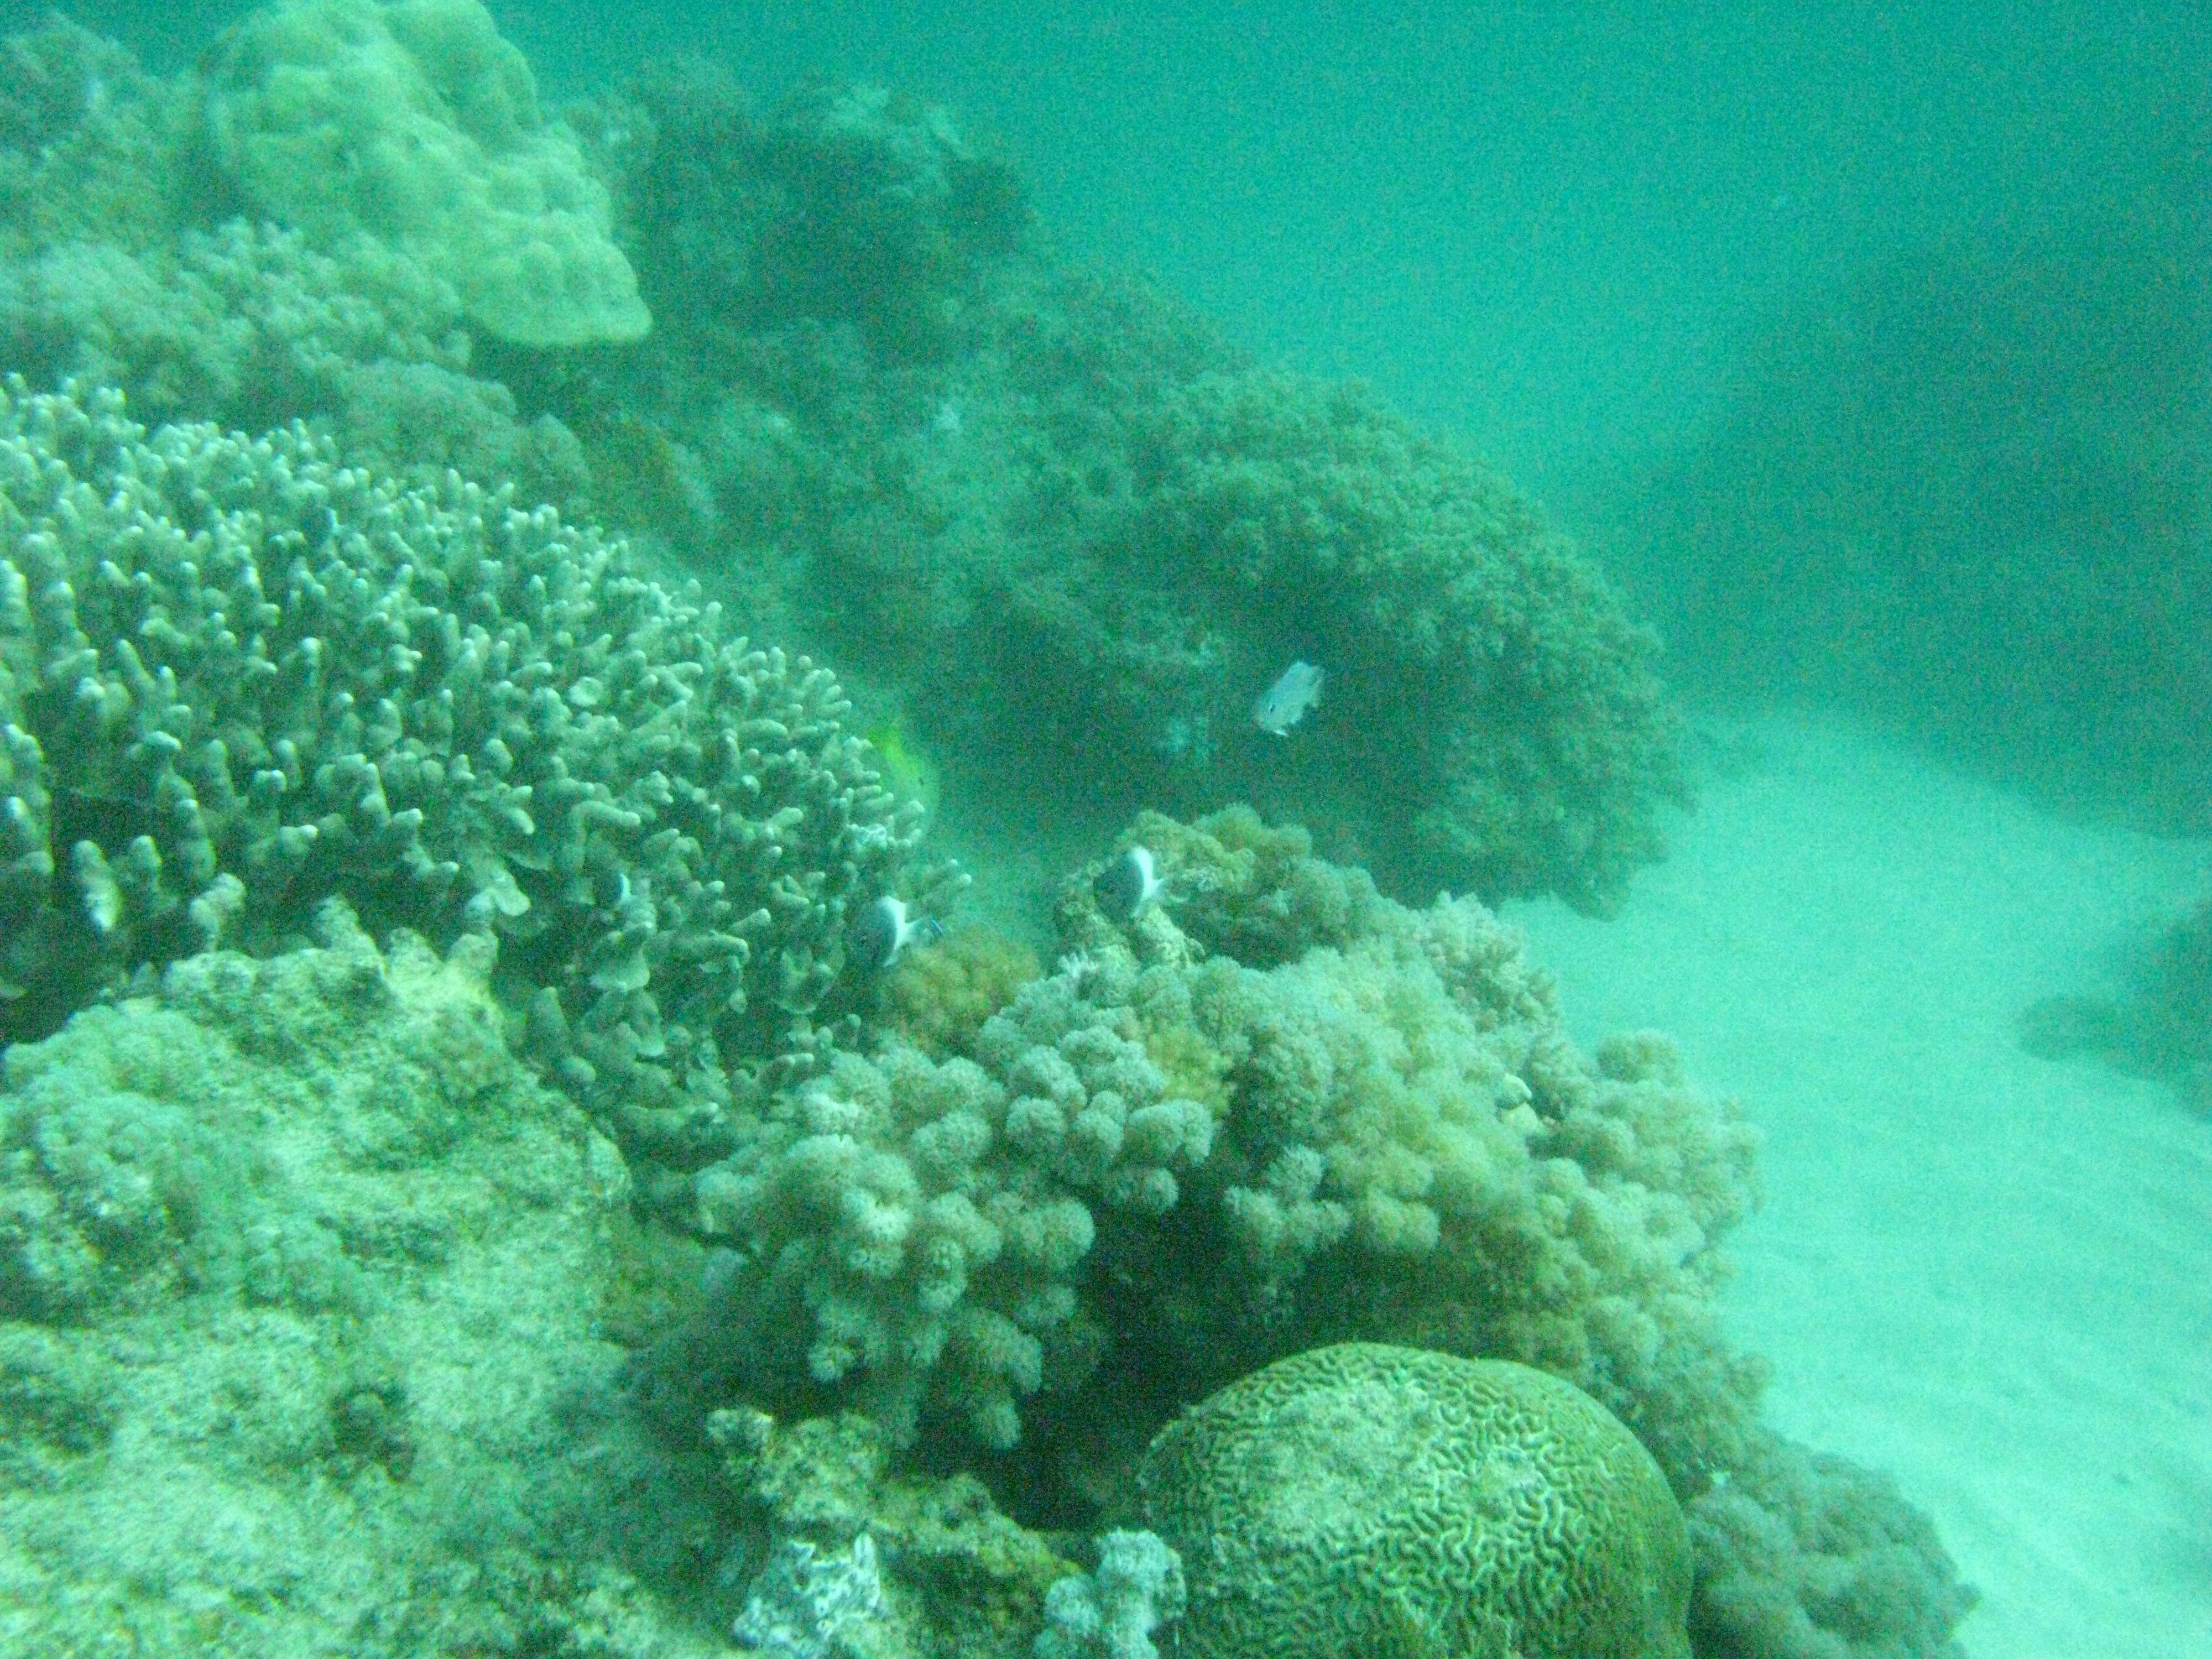Fish: (841, 882, 958, 983), (1087, 833, 1177, 934)
